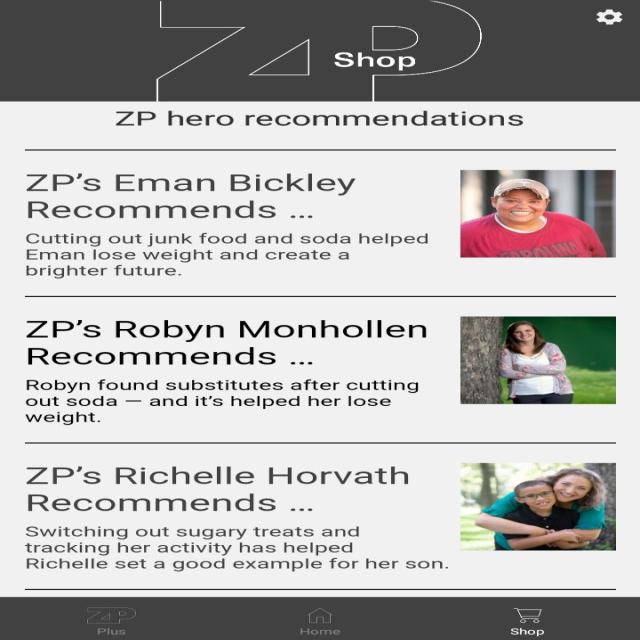Icon: (511, 607, 541, 622), (306, 607, 334, 623), (596, 10, 622, 24)
Image: (156, 0, 480, 101), (460, 169, 616, 258), (460, 462, 616, 550), (460, 316, 616, 404), (86, 606, 137, 623)
Text: (24, 526, 448, 571), (25, 232, 428, 278), (25, 379, 419, 425), (26, 320, 427, 364), (26, 466, 408, 511), (26, 172, 356, 218), (114, 111, 524, 126), (333, 52, 415, 71), (509, 627, 543, 636), (298, 628, 339, 635), (96, 627, 126, 635)
